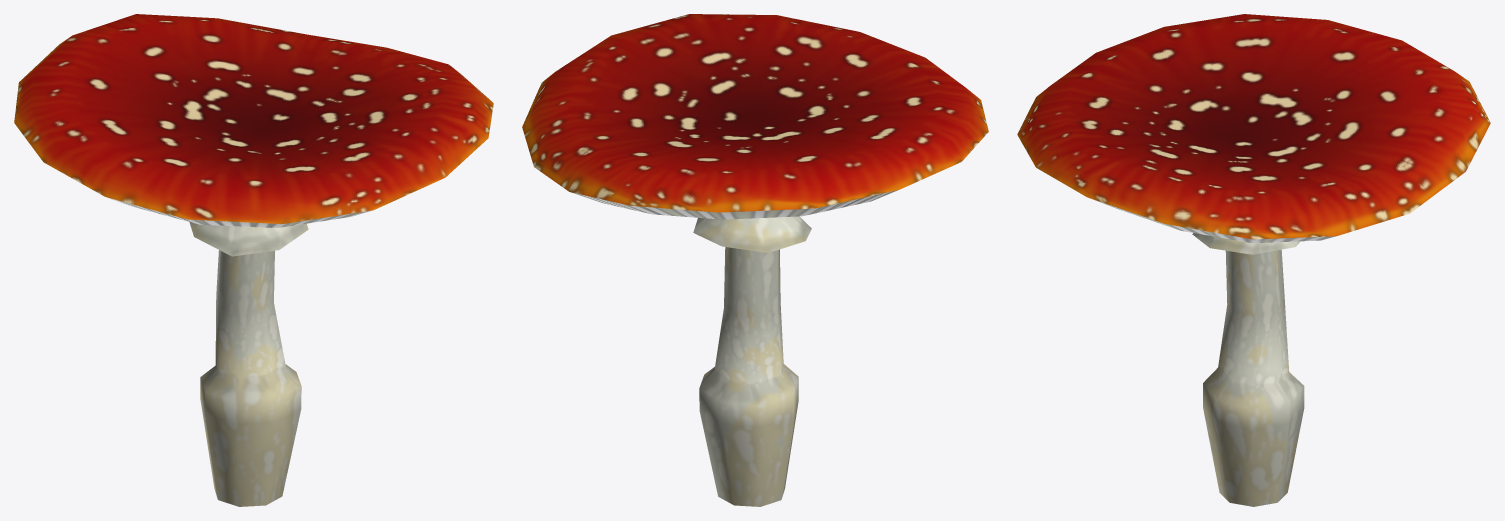
Rendered from amanita_a.FBX.
3 renders of one model, left to right at view 1: azimuth 30°, elevation 25°; view 2: azimuth 150°, elevation 25°; view 3: azimuth 270°, elevation 25°, orthographic. The views are drawn at different scales.
Parts seen in each view (by area): view 1: amanita_A; view 2: amanita_A; view 3: amanita_A.
Part boxes in pixels (x1,y1,x2,y2): amanita_A: [14, 14, 493, 506]; amanita_A: [522, 14, 988, 506]; amanita_A: [1017, 14, 1490, 506].
Size of the model in its own units: 1.15 by 1.05 by 1.15.
Materials: 1 (1 with a texture image).
